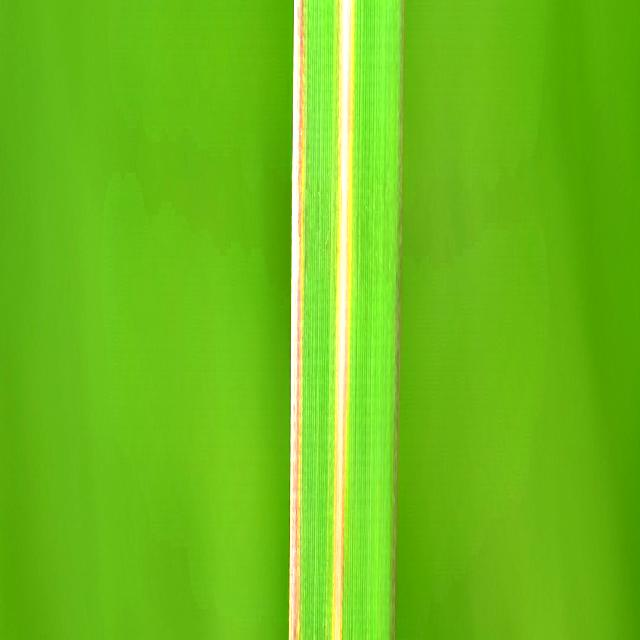BLB: (332, 0, 354, 640), (289, 0, 305, 640)
